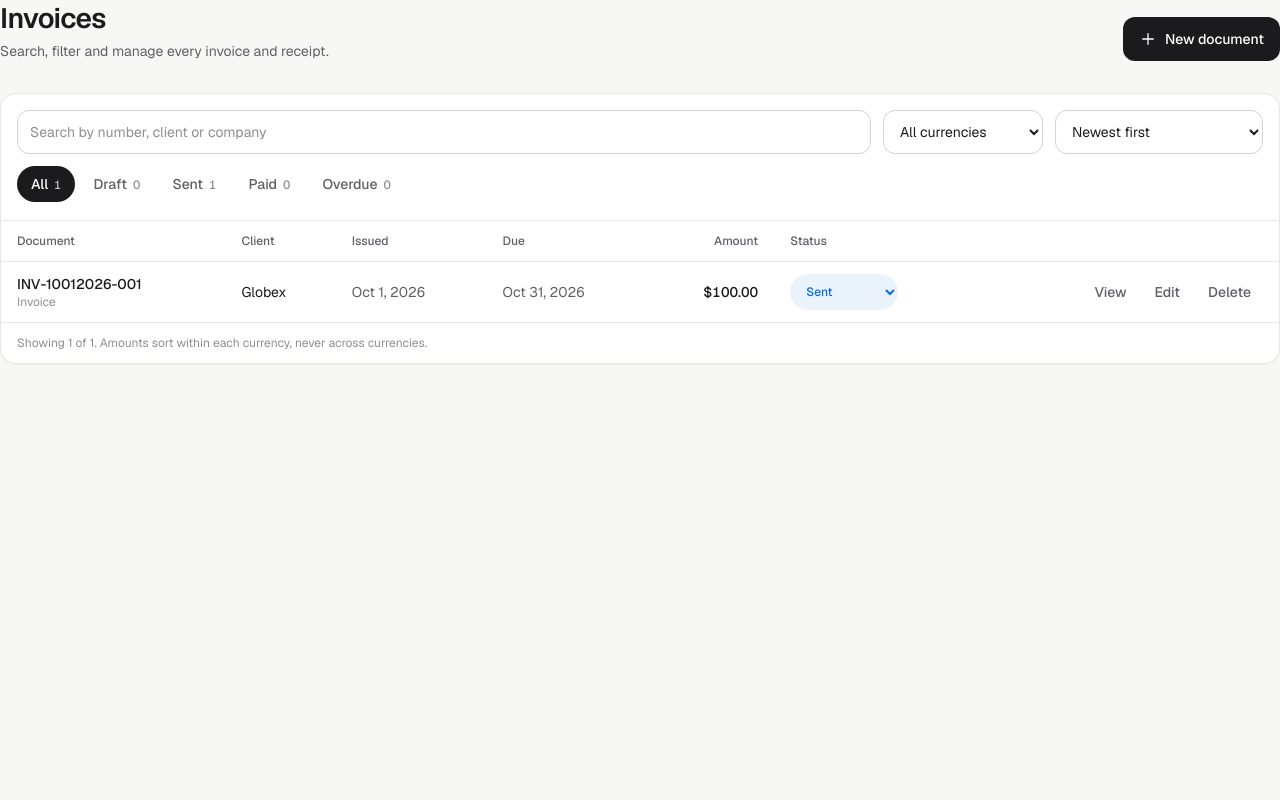
Test: InvoiceListView › deletes only after confirmation
The width and height of the screenshot is (1280, 800).
What coordinates should you click on to do the following:
click the button with aria-label "Delete INV-"
I would click on:
 (1229, 292)
Its box is [1196, 274, 1263, 310].
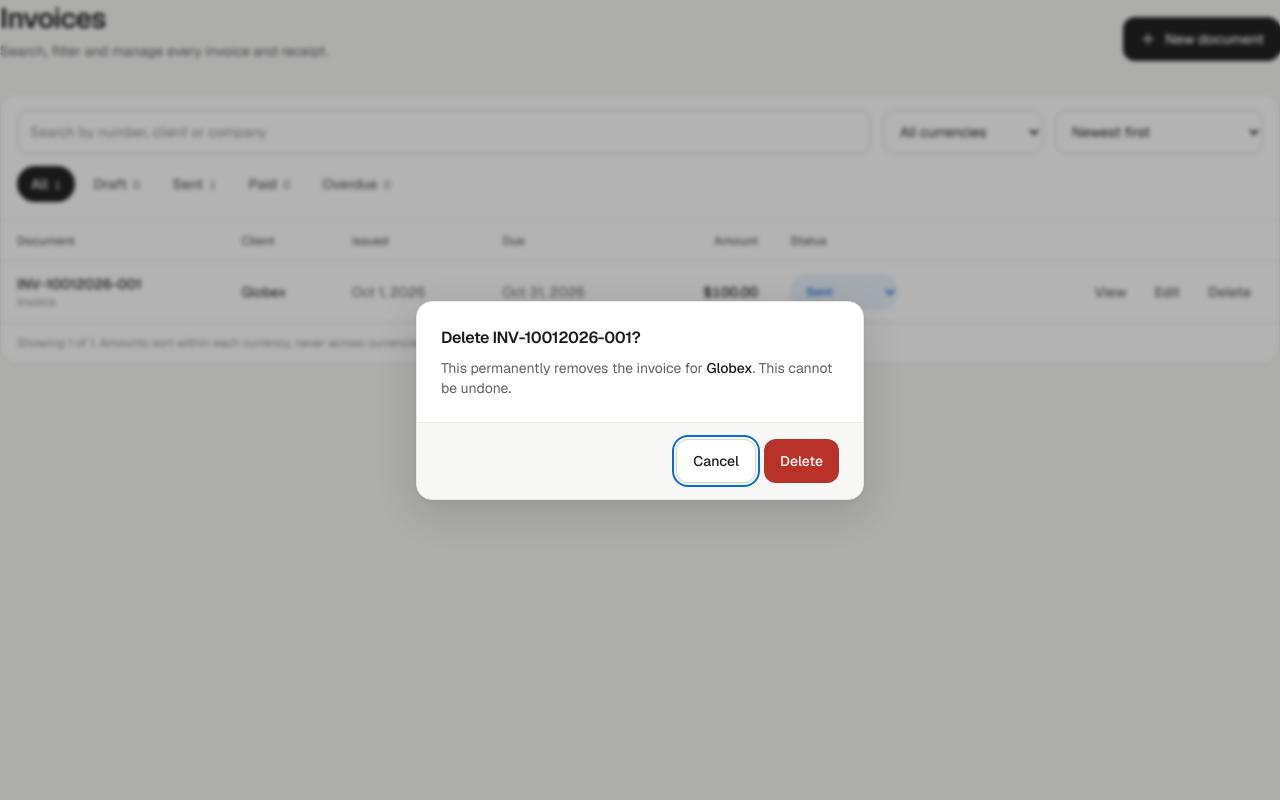
What coordinates should you click on to do the following:
click the button "Delete"
I would click on:
 (801, 460)
Its box is [764, 438, 839, 482].
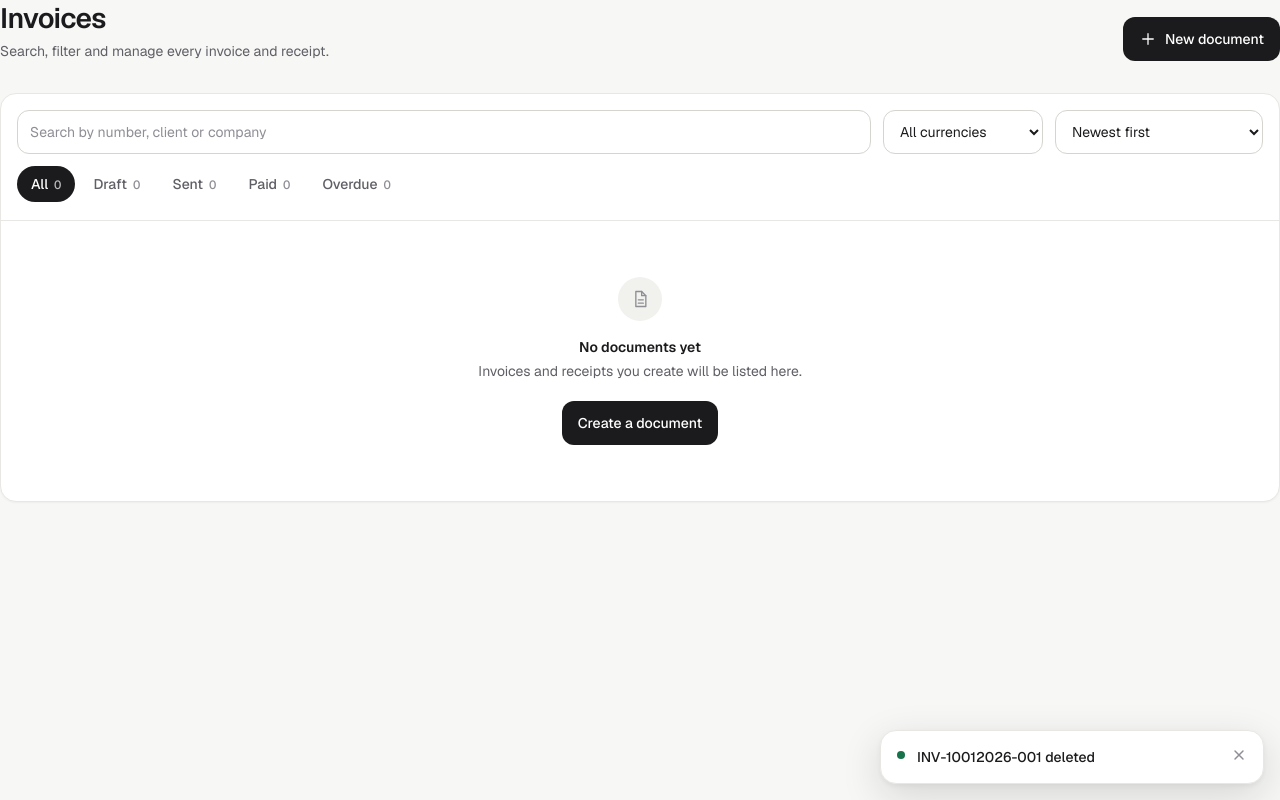
Result: the heading "No documents yet" is shown at [579, 337, 701, 357]
